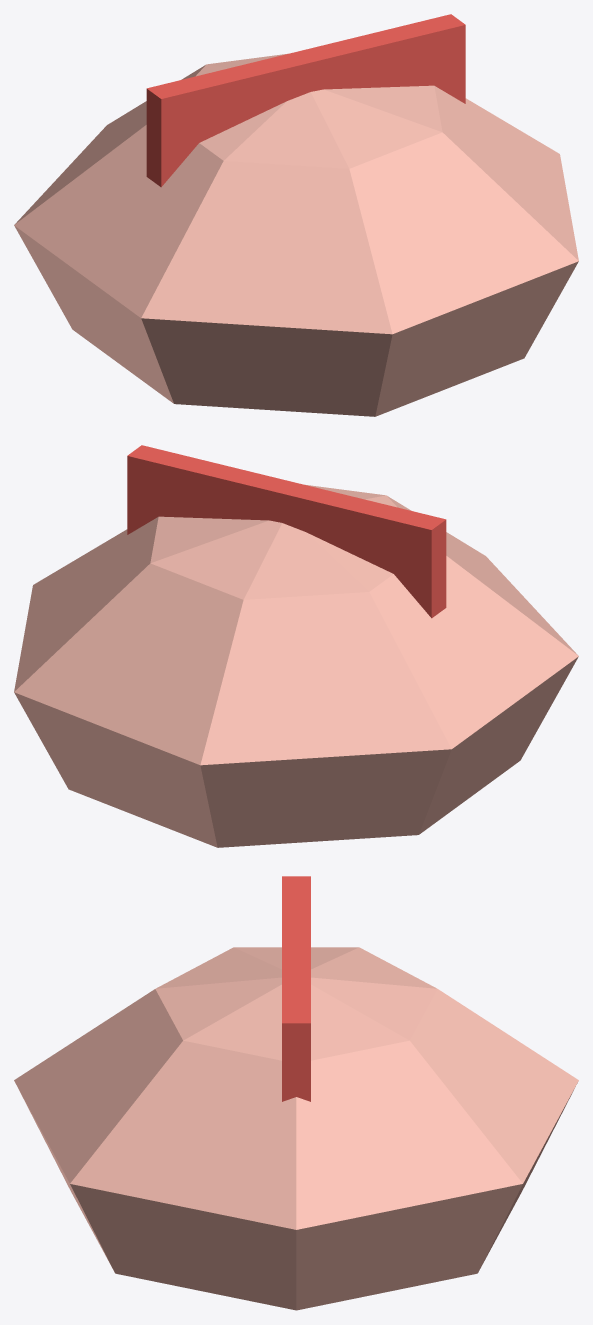
File: seashell.glb
3 views of the same model, one above another, from view 1: azimuth 30°, elevation 25°; view 2: azimuth 150°, elevation 25°; view 3: azimuth 270°, elevation 25° (orthographic).
Parts seen in each view (by area): view 1: seashell; view 2: seashell; view 3: seashell.
Boxes of the visible parts, x1,y1,x2,y2 form: seashell: [14, 14, 578, 416]; seashell: [14, 445, 578, 847]; seashell: [14, 876, 578, 1310].
Bounding box in the file's own units: 0.1901 × 0.12 × 0.195.
